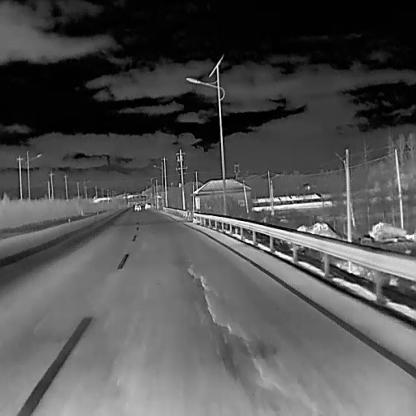car: (143, 200, 152, 210), (133, 201, 141, 211)
